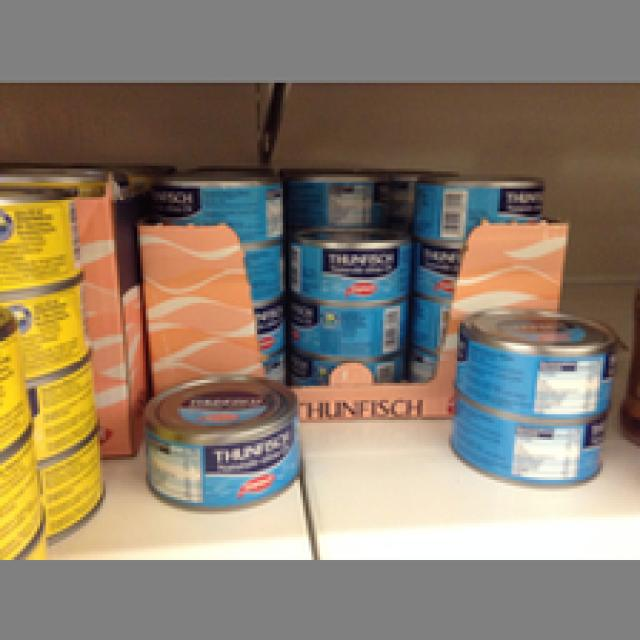groceries: (140, 368, 306, 508), (454, 300, 614, 414), (437, 380, 606, 486), (406, 168, 543, 246), (283, 217, 408, 297), (148, 166, 283, 240), (274, 286, 412, 354)
